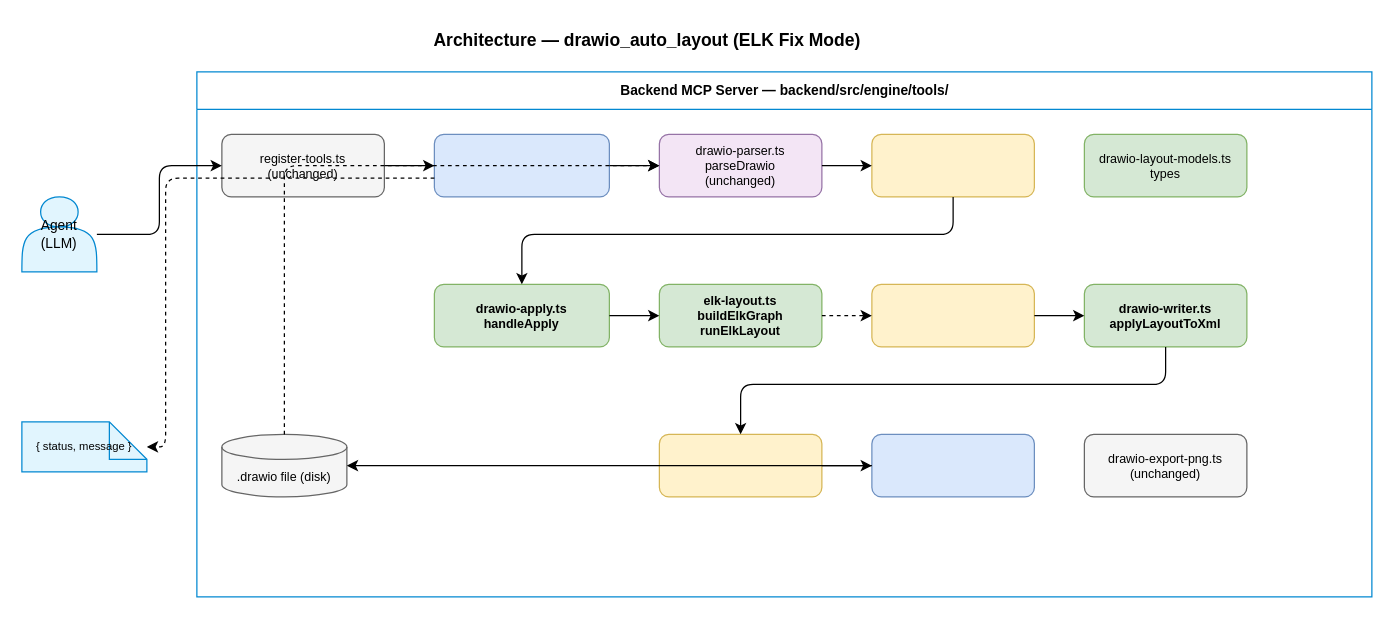
This 1394x619 diagram has some shape labels left out. The centre of each missing label's shape, as x and y in pixels:
detectAllIssues overlaps/crossings: point (952, 165)
drawio-tool.ts handleDrawioLayout resolveFilePath: point (521, 165)
elkjs (npm) lazy-load: point (952, 315)
fs.writeFileSync write to disk: point (952, 465)
validateReparse rollback if fail: point (740, 465)
